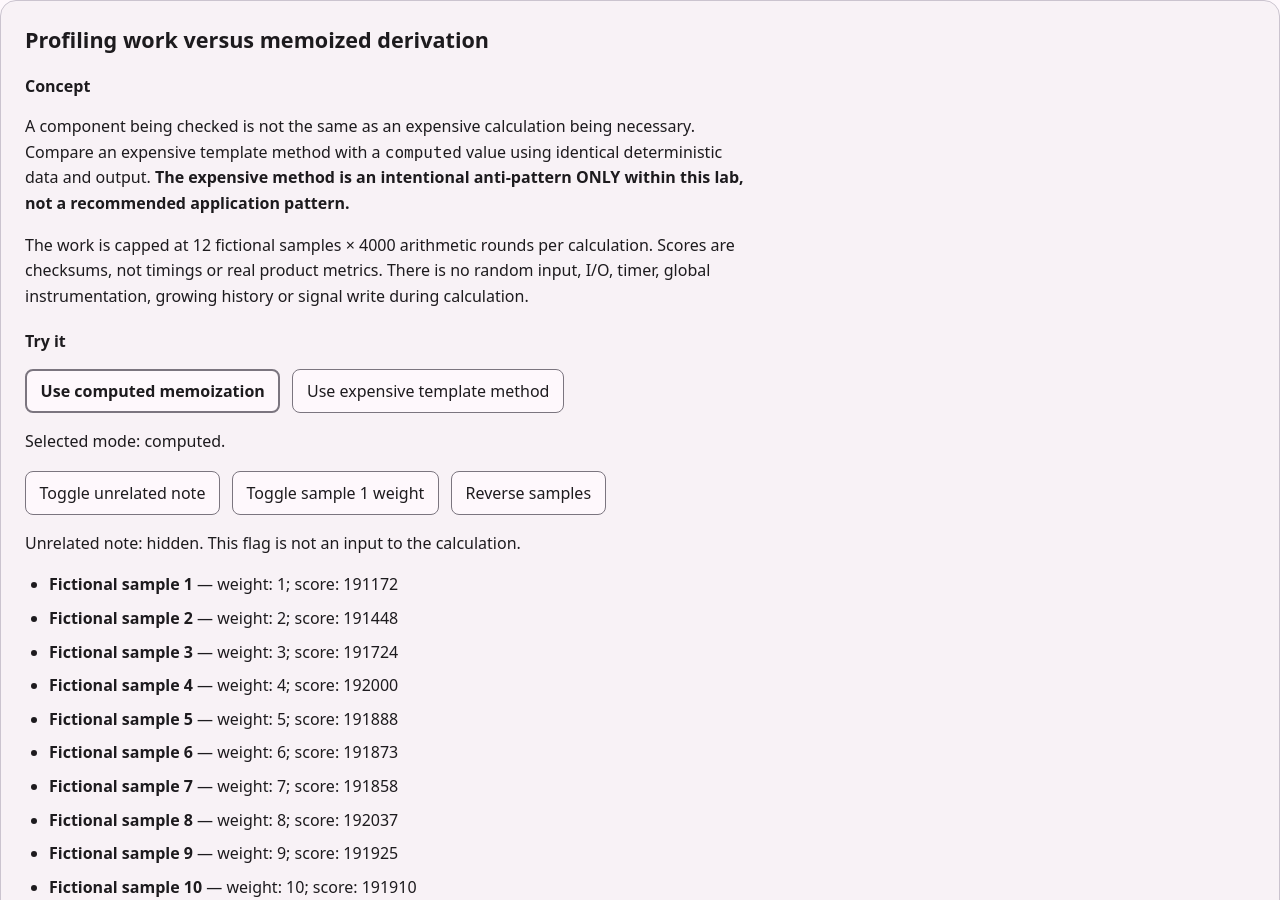
ProfilingLessonComponent › immutably updates the changed object and array, recalculates once, and preserves stable rows
What coordinates should you click on to do the following:
click the button "Toggle sample 1 weight"
I would click on:
 (335, 493)
Its box is [232,471,439,515].
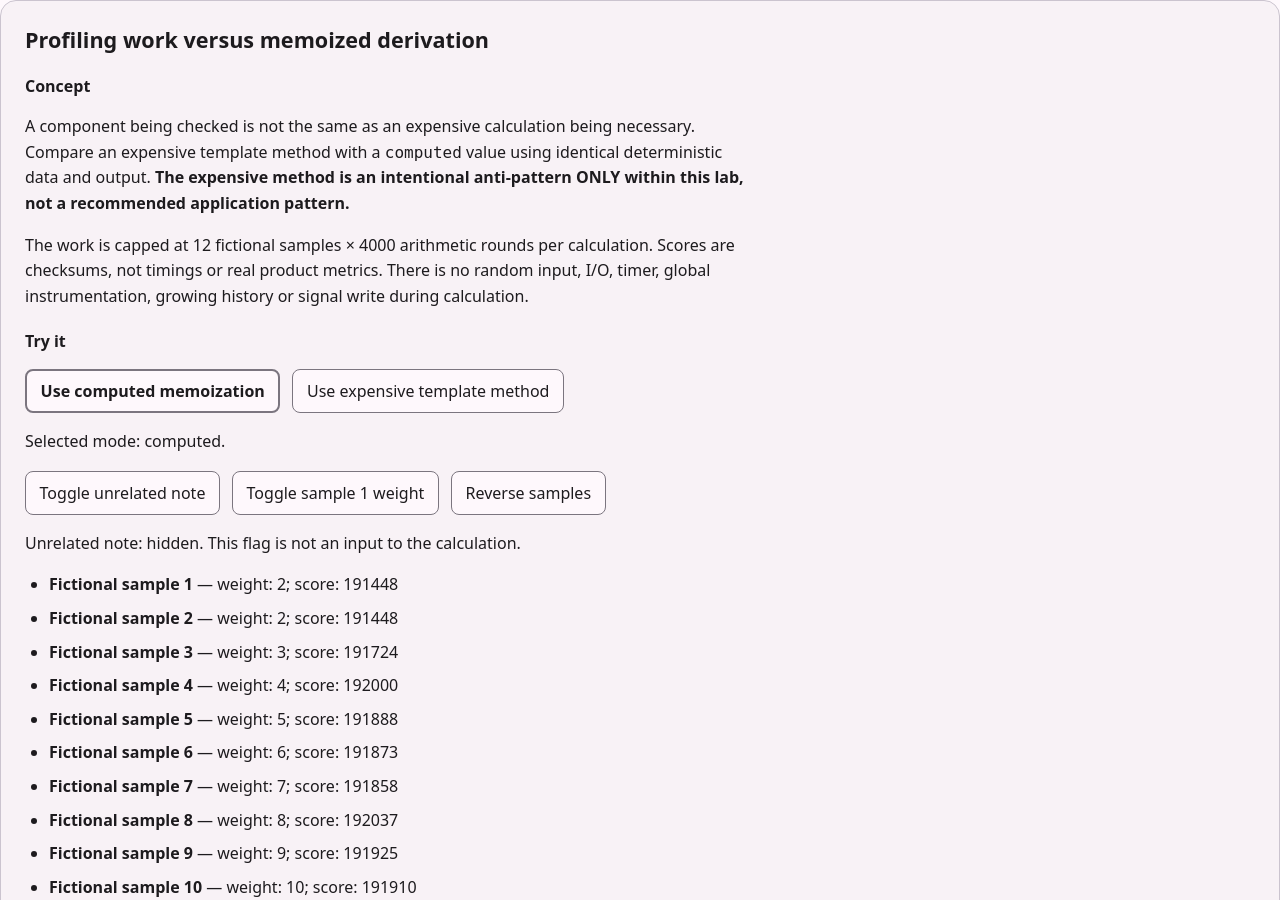
Result: the 1st text "2" is shown at [277,574,286,596]
Result: the text "191172" is gone
What coordinates should you click on to do the following:
click the button "Toggle sample 1 weight"
I would click on:
 (335, 493)
Its box is [232,471,439,515].
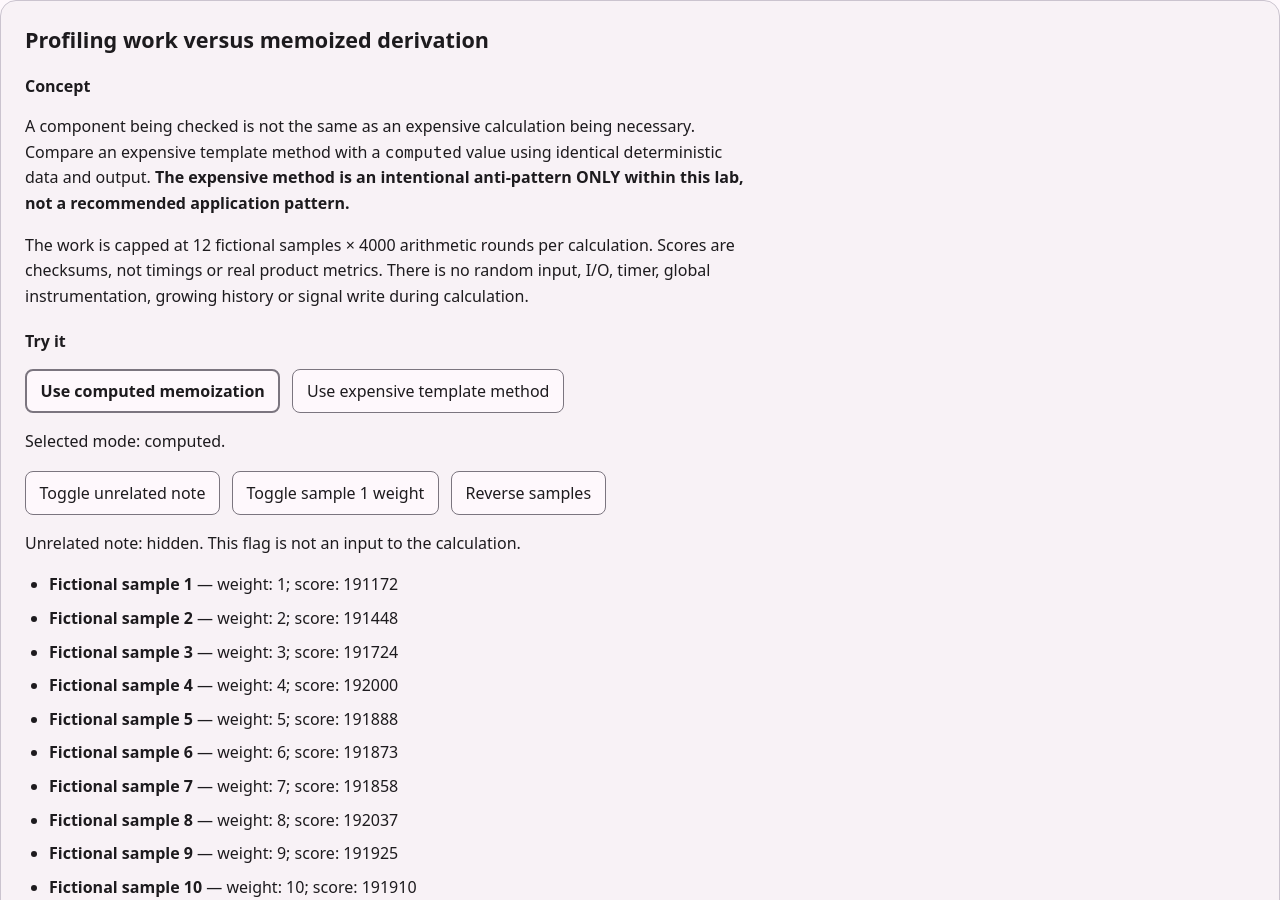
Result: the text "191172" is shown at [343,574,398,596]
